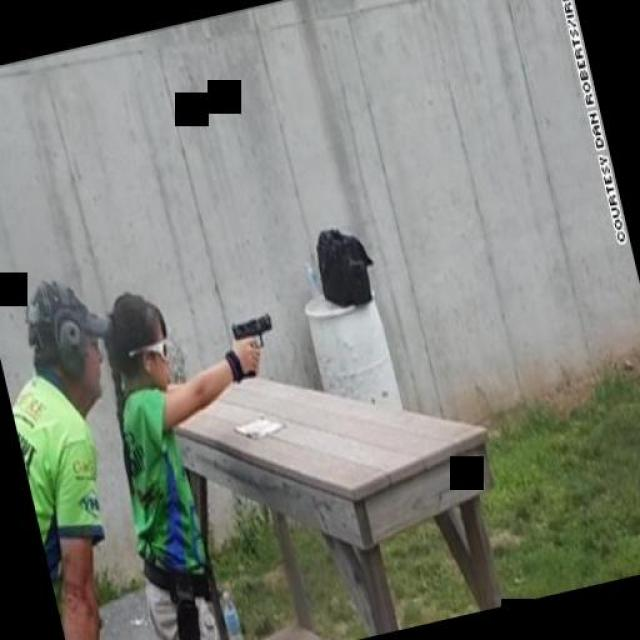gun: (226, 311, 284, 379)
